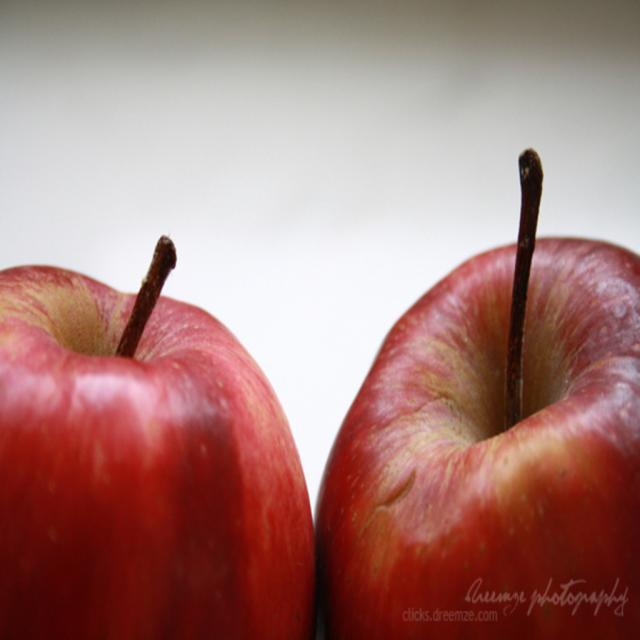Healty Apple: (311, 146, 639, 638), (0, 229, 315, 638)
